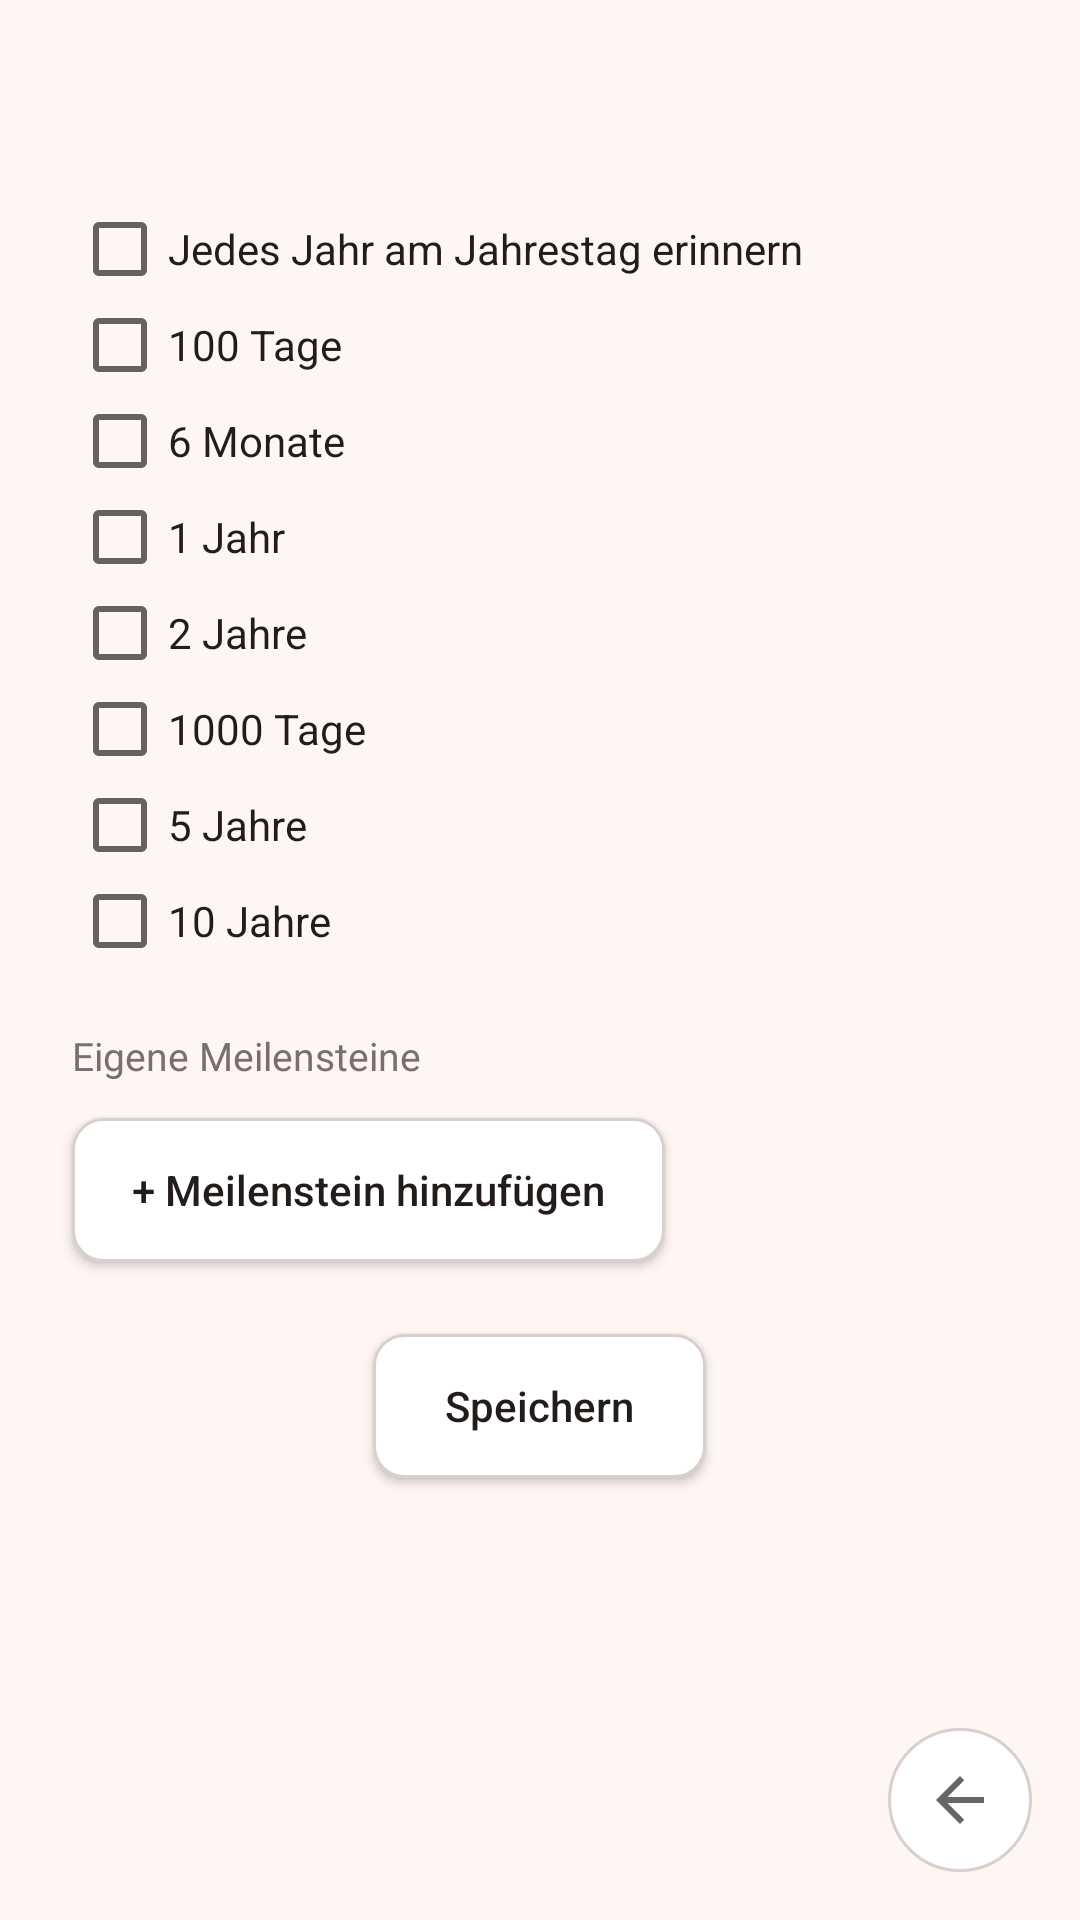

Icons on this 1080*1920 Android screen, each with its box as (x1, y1, x2, y2):
Zurück: (888, 1728, 1032, 1872)
